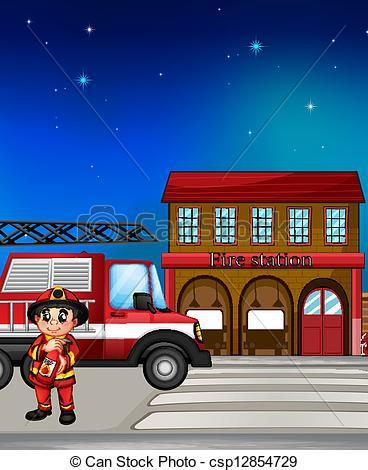car: (1, 247, 214, 395), (241, 308, 290, 361), (183, 305, 228, 359)
person: (21, 284, 89, 431)
